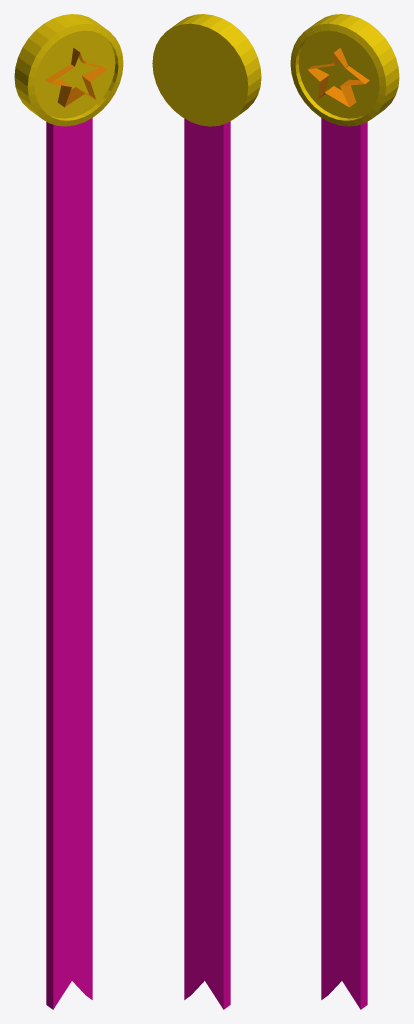
File: TakopiRope.glb
3 renders of one model, left to right at view 1: azimuth 30°, elevation 25°; view 2: azimuth 150°, elevation 25°; view 3: azimuth 330°, elevation 25°, orthographic.
Parts seen in each view (by area): view 1: Cube, Cylinder, Circle; view 2: Cube, Cylinder; view 3: Cube, Cylinder, Circle.
Part boxes in pixels (box(x1,y1,x2,y2)): Cube: box(46, 118, 92, 1009); Cylinder: box(14, 14, 123, 126); Circle: box(45, 48, 106, 107); Cube: box(184, 118, 230, 1009); Cylinder: box(152, 14, 261, 126); Cube: box(321, 118, 367, 1009); Cylinder: box(290, 14, 399, 126); Circle: box(307, 48, 369, 107).
Bounding box in the file's own units: 0.4283 × 4.2 × 0.1923.
